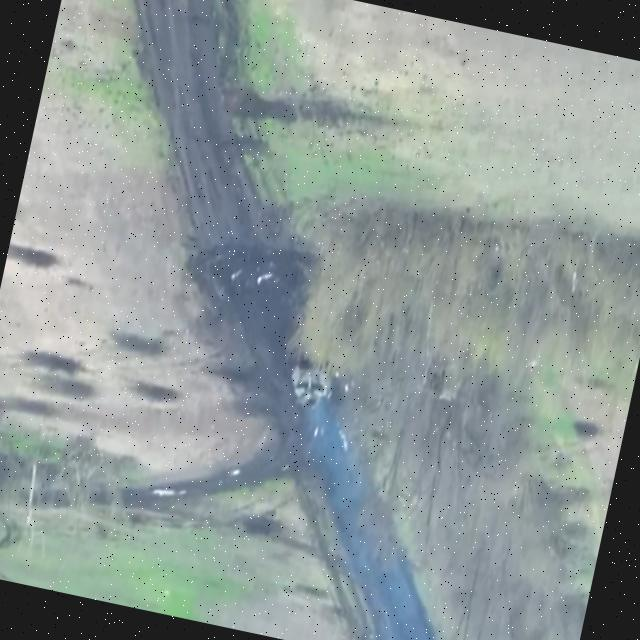MBT: (284, 357, 340, 417)
